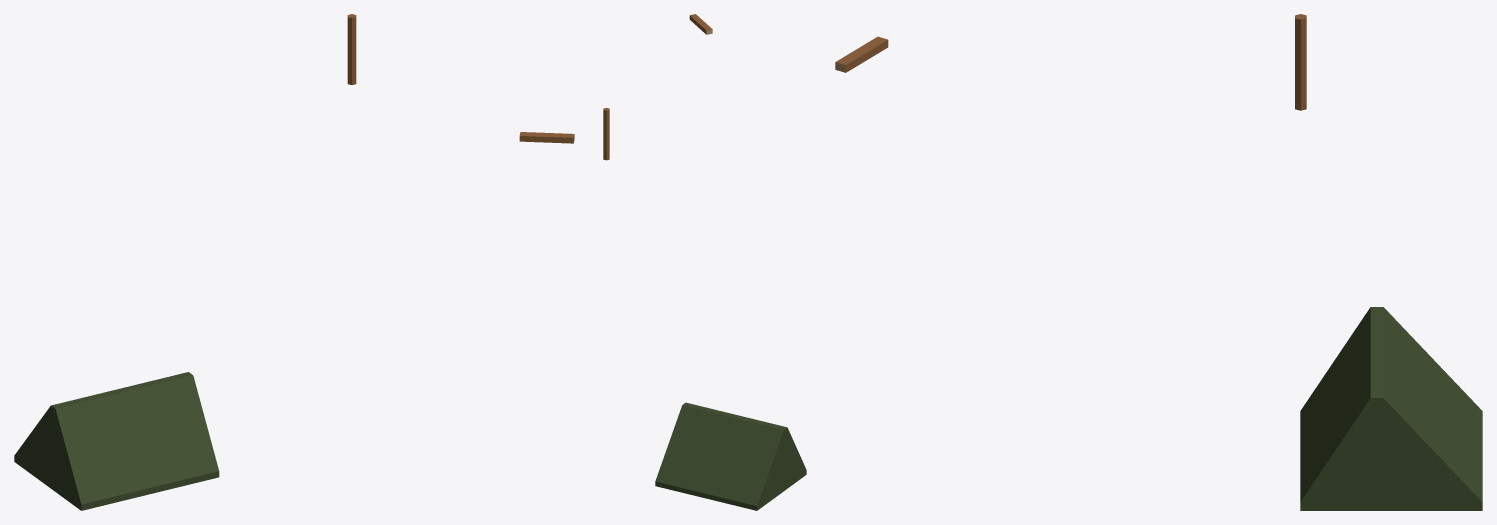
3 views of the same model, side by side, from view 1: azimuth 30°, elevation 25°; view 2: azimuth 150°, elevation 25°; view 3: azimuth 270°, elevation 25° (orthographic). The views are drawn at different scales.
Parts seen in each view (by area): view 1: Object201_roof1_0, Cylinder1723_brown_0; view 2: Object201_roof1_0, Cylinder1723_brown_0; view 3: Object201_roof1_0, Cylinder1723_brown_0, Box15782_brown_0.
Part boxes in pixels (bbox=[...]): Object201_roof1_0: bbox=[14, 372, 219, 510]; Cylinder1723_brown_0: bbox=[347, 14, 356, 84]; Object201_roof1_0: bbox=[655, 402, 806, 510]; Cylinder1723_brown_0: bbox=[603, 108, 609, 160]; Object201_roof1_0: bbox=[1300, 307, 1482, 510]; Cylinder1723_brown_0: bbox=[1295, 14, 1306, 110]; Box15782_brown_0: bbox=[836, 36, 888, 72].
Size of the model in its own units: 1221 by 1535 by 1546.
